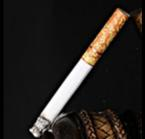Cigarette: (29, 8, 130, 136)
